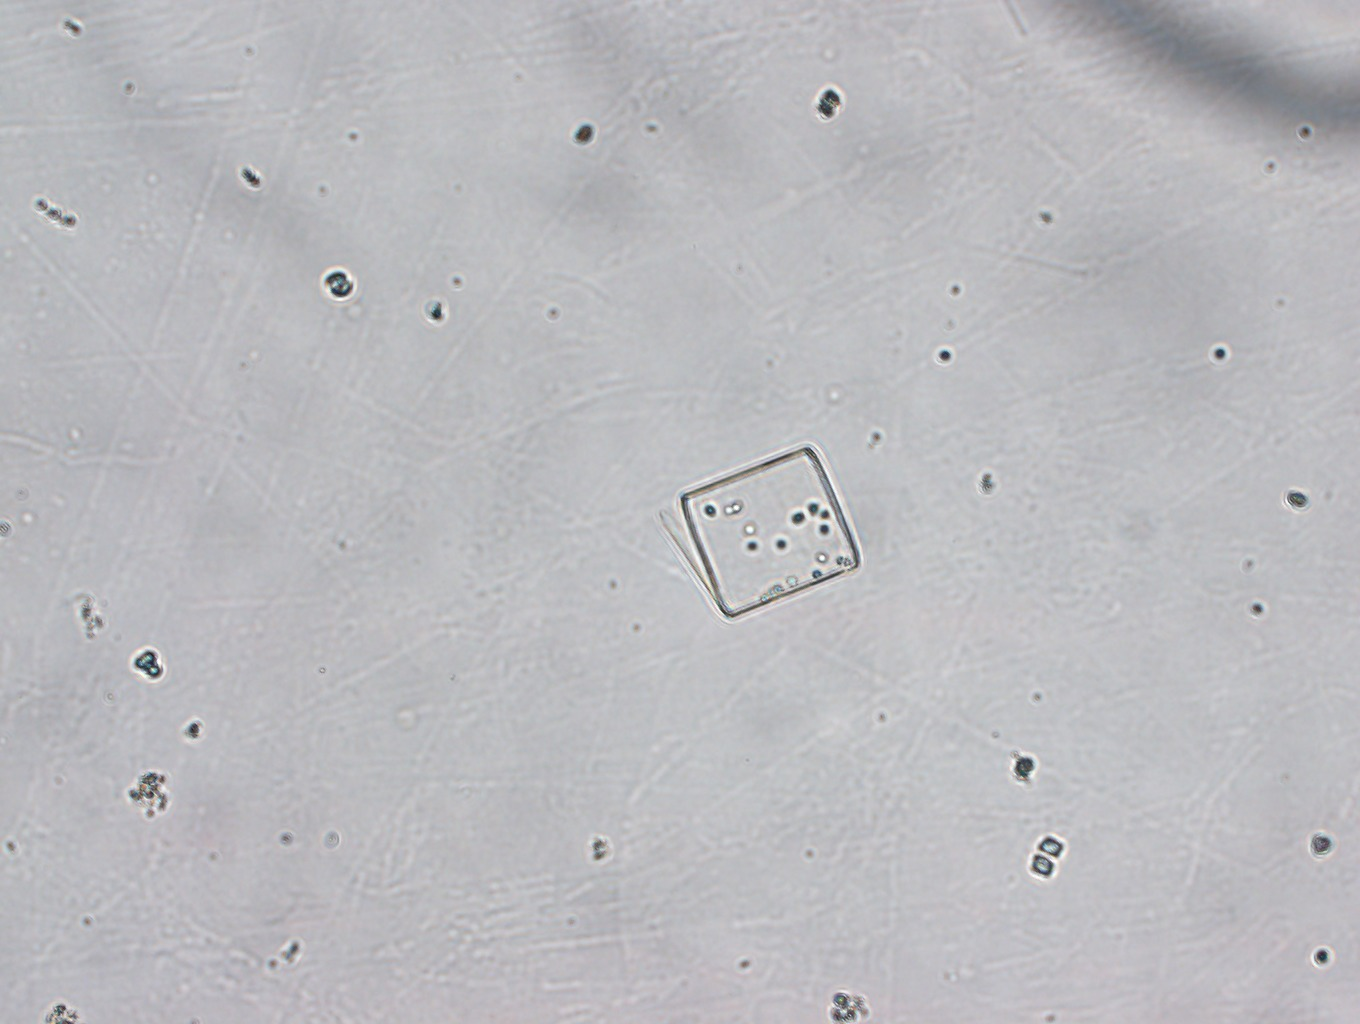guinardia flaccida: (656, 444, 863, 618)
